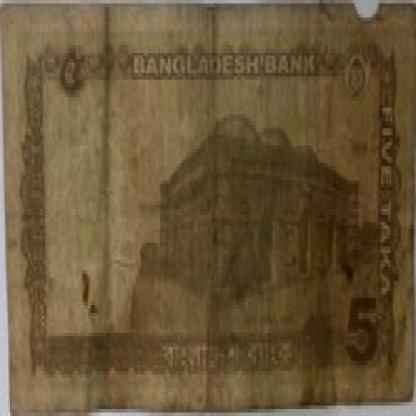Five Taka: (332, 277, 385, 378), (55, 38, 86, 108)
